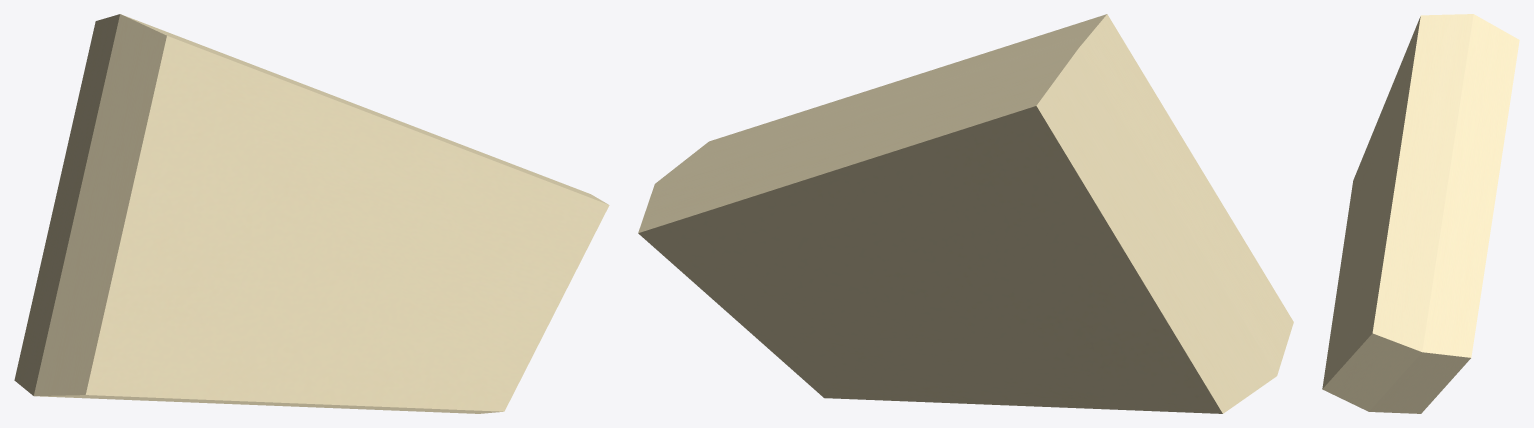
The model's file is FXM_S29_ClampShard.fbx.
The picture shows the model from 3 angles, left to right: view 1: azimuth 30°, elevation 25°; view 2: azimuth 150°, elevation 25°; view 3: azimuth 270°, elevation 25°; orthographic projection. The views are drawn at different scales.
Parts seen in each view (by area): view 1: FXM_S29_ClampShard_LOD0; view 2: FXM_S29_ClampShard_LOD0; view 3: FXM_S29_ClampShard_LOD0.
Part boxes in pixels (x1,y1,x2,y2): FXM_S29_ClampShard_LOD0: (14,14,609,413); FXM_S29_ClampShard_LOD0: (638,14,1293,413); FXM_S29_ClampShard_LOD0: (1322,14,1519,413).
Bounding box in the file's own units: 0.23 × 0.164 × 0.096.
